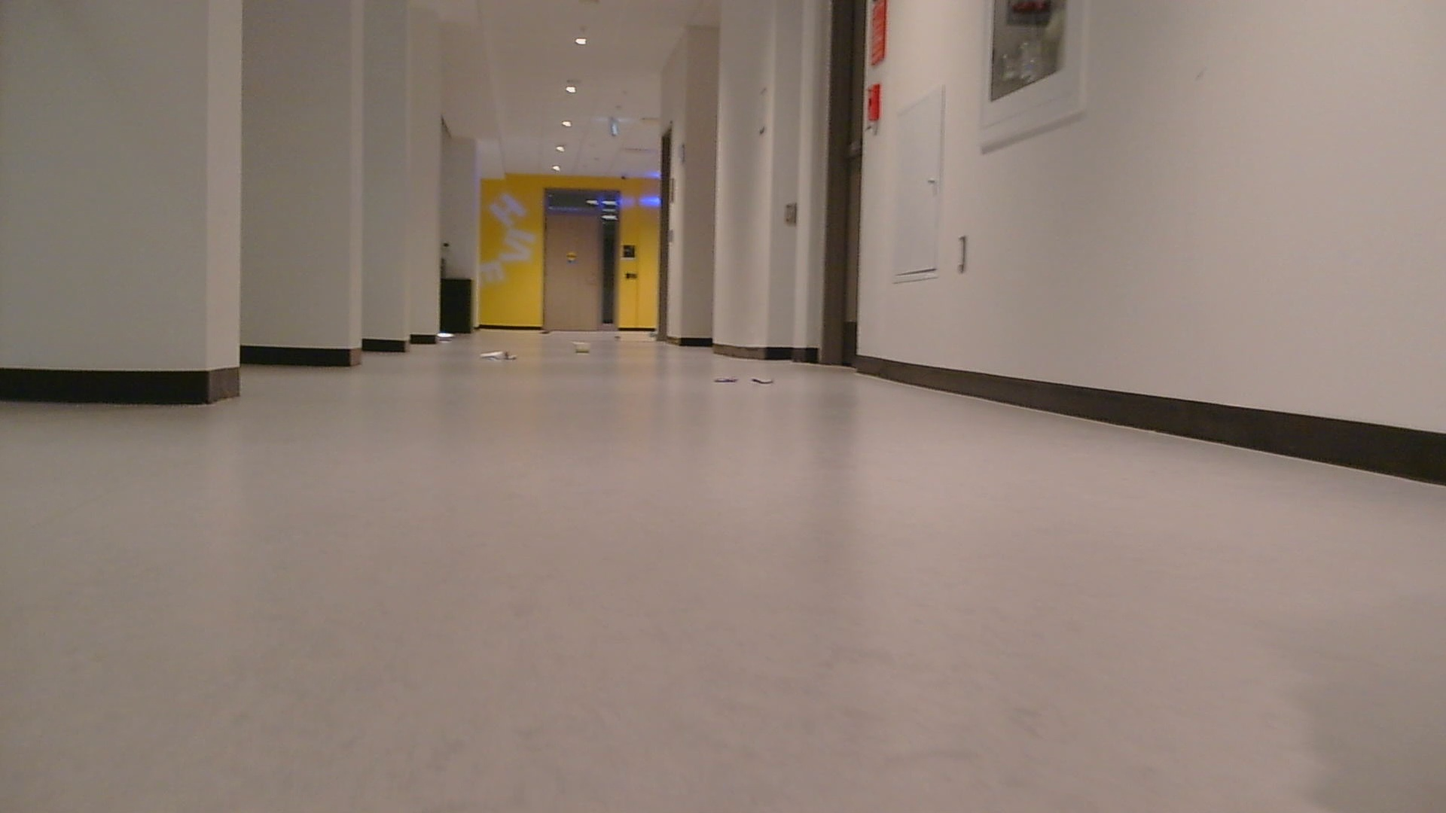carton: (691, 367, 780, 397), (471, 352, 518, 367), (564, 336, 603, 353), (612, 327, 628, 342)
